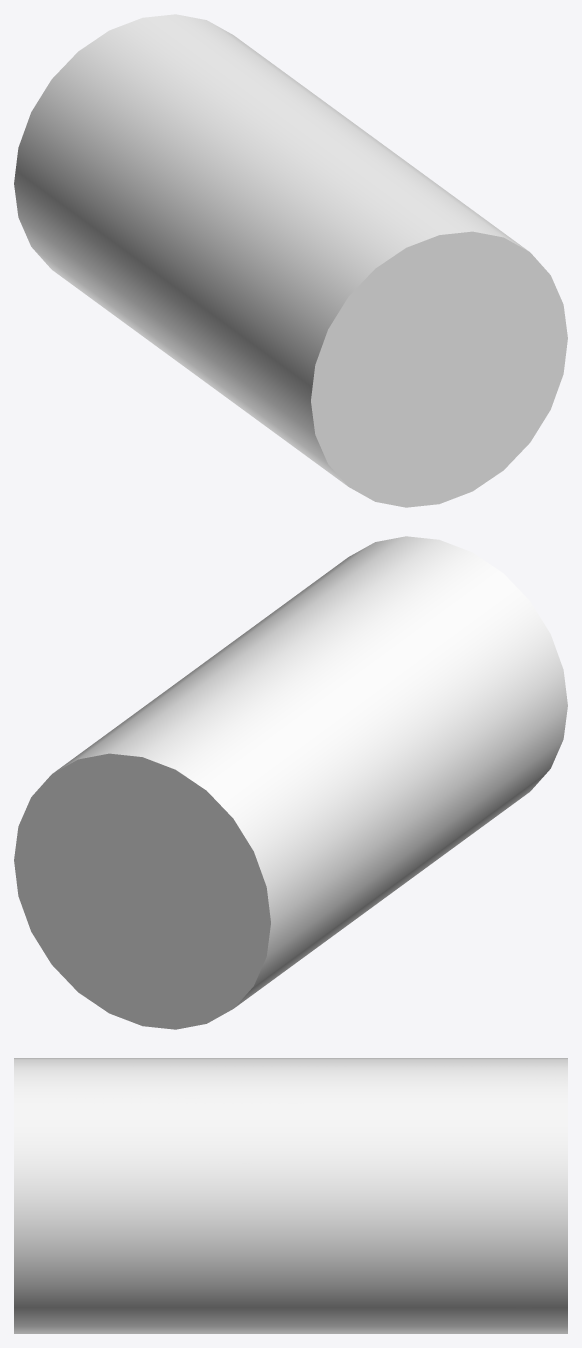
File: sword.fbx
3 views of the same model, one above another, from view 1: azimuth 30°, elevation 25°; view 2: azimuth 150°, elevation 25°; view 3: azimuth 270°, elevation 25° (orthographic). The views are drawn at different scales.
Parts seen in each view (by area): view 1: Cylinder; view 2: Cylinder; view 3: Cylinder.
Boxes of the visible parts, x1,y1,x2,y2 form: Cylinder: [14, 14, 567, 507]; Cylinder: [14, 536, 567, 1029]; Cylinder: [14, 1058, 567, 1333].
Size of the model in its own units: 10 by 10 by 20.
1 material, 1 textured.
